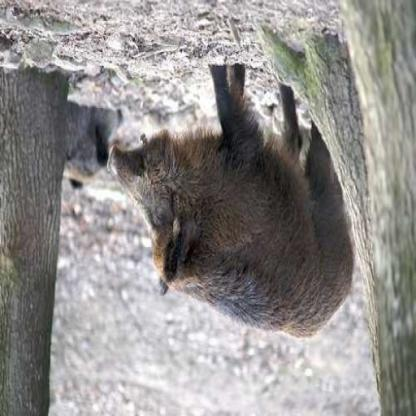boar: (68, 56, 362, 354)
